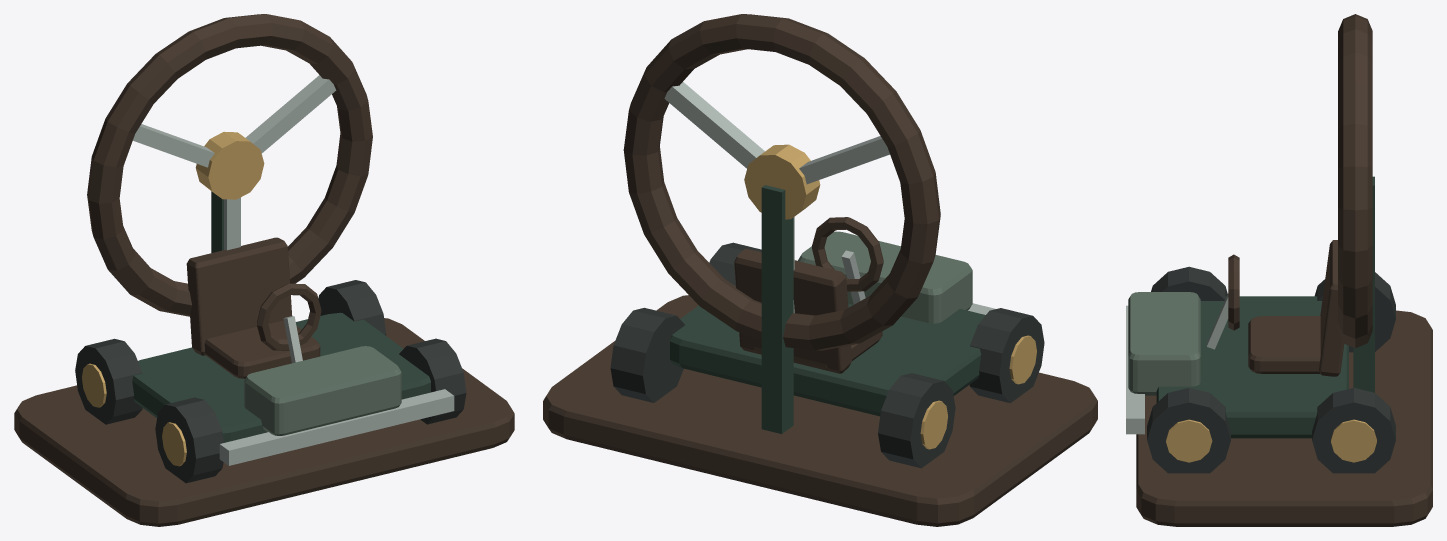
File: 11_Central_Hall_Kart.fbx
3 renders of one model, left to right at view 1: azimuth 30°, elevation 25°; view 2: azimuth 150°, elevation 25°; view 3: azimuth 270°, elevation 25°, orthographic. The views are drawn at different scales.
Visible parts, largest first — view 1: 11_Central_Hall_Kart__Kart, 11_Central_Hall_Kart__Steering_Sign, 11_Central_Hall_Kart__Body; view 2: 11_Central_Hall_Kart__Steering_Sign, 11_Central_Hall_Kart__Body, 11_Central_Hall_Kart__Kart; view 3: 11_Central_Hall_Kart__Kart, 11_Central_Hall_Kart__Body, 11_Central_Hall_Kart__Steering_Sign.
Part boxes in pixels (left/top/right/bottom): 11_Central_Hall_Kart__Kart: left=75, top=237, right=466, bottom=483; 11_Central_Hall_Kart__Steering_Sign: left=87, top=14, right=372, bottom=316; 11_Central_Hall_Kart__Body: left=14, top=318, right=514, bottom=526; 11_Central_Hall_Kart__Steering_Sign: left=623, top=14, right=940, bottom=433; 11_Central_Hall_Kart__Body: left=543, top=295, right=1097, bottom=526; 11_Central_Hall_Kart__Kart: left=610, top=217, right=1044, bottom=468; 11_Central_Hall_Kart__Kart: left=1126, top=240, right=1395, bottom=473; 11_Central_Hall_Kart__Body: left=1136, top=310, right=1432, bottom=526; 11_Central_Hall_Kart__Steering_Sign: left=1338, top=14, right=1374, bottom=392.
Bounding box in the file's own units: 315 × 307 × 212.
2 materials, 2 textured.
